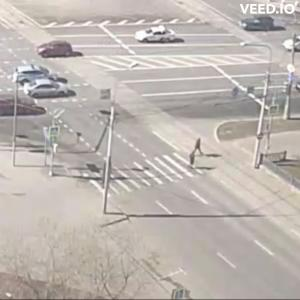car: (1, 92, 42, 115), (135, 27, 182, 45), (39, 42, 83, 60), (29, 83, 73, 100), (18, 68, 50, 87), (242, 18, 270, 32), (283, 34, 300, 53)
